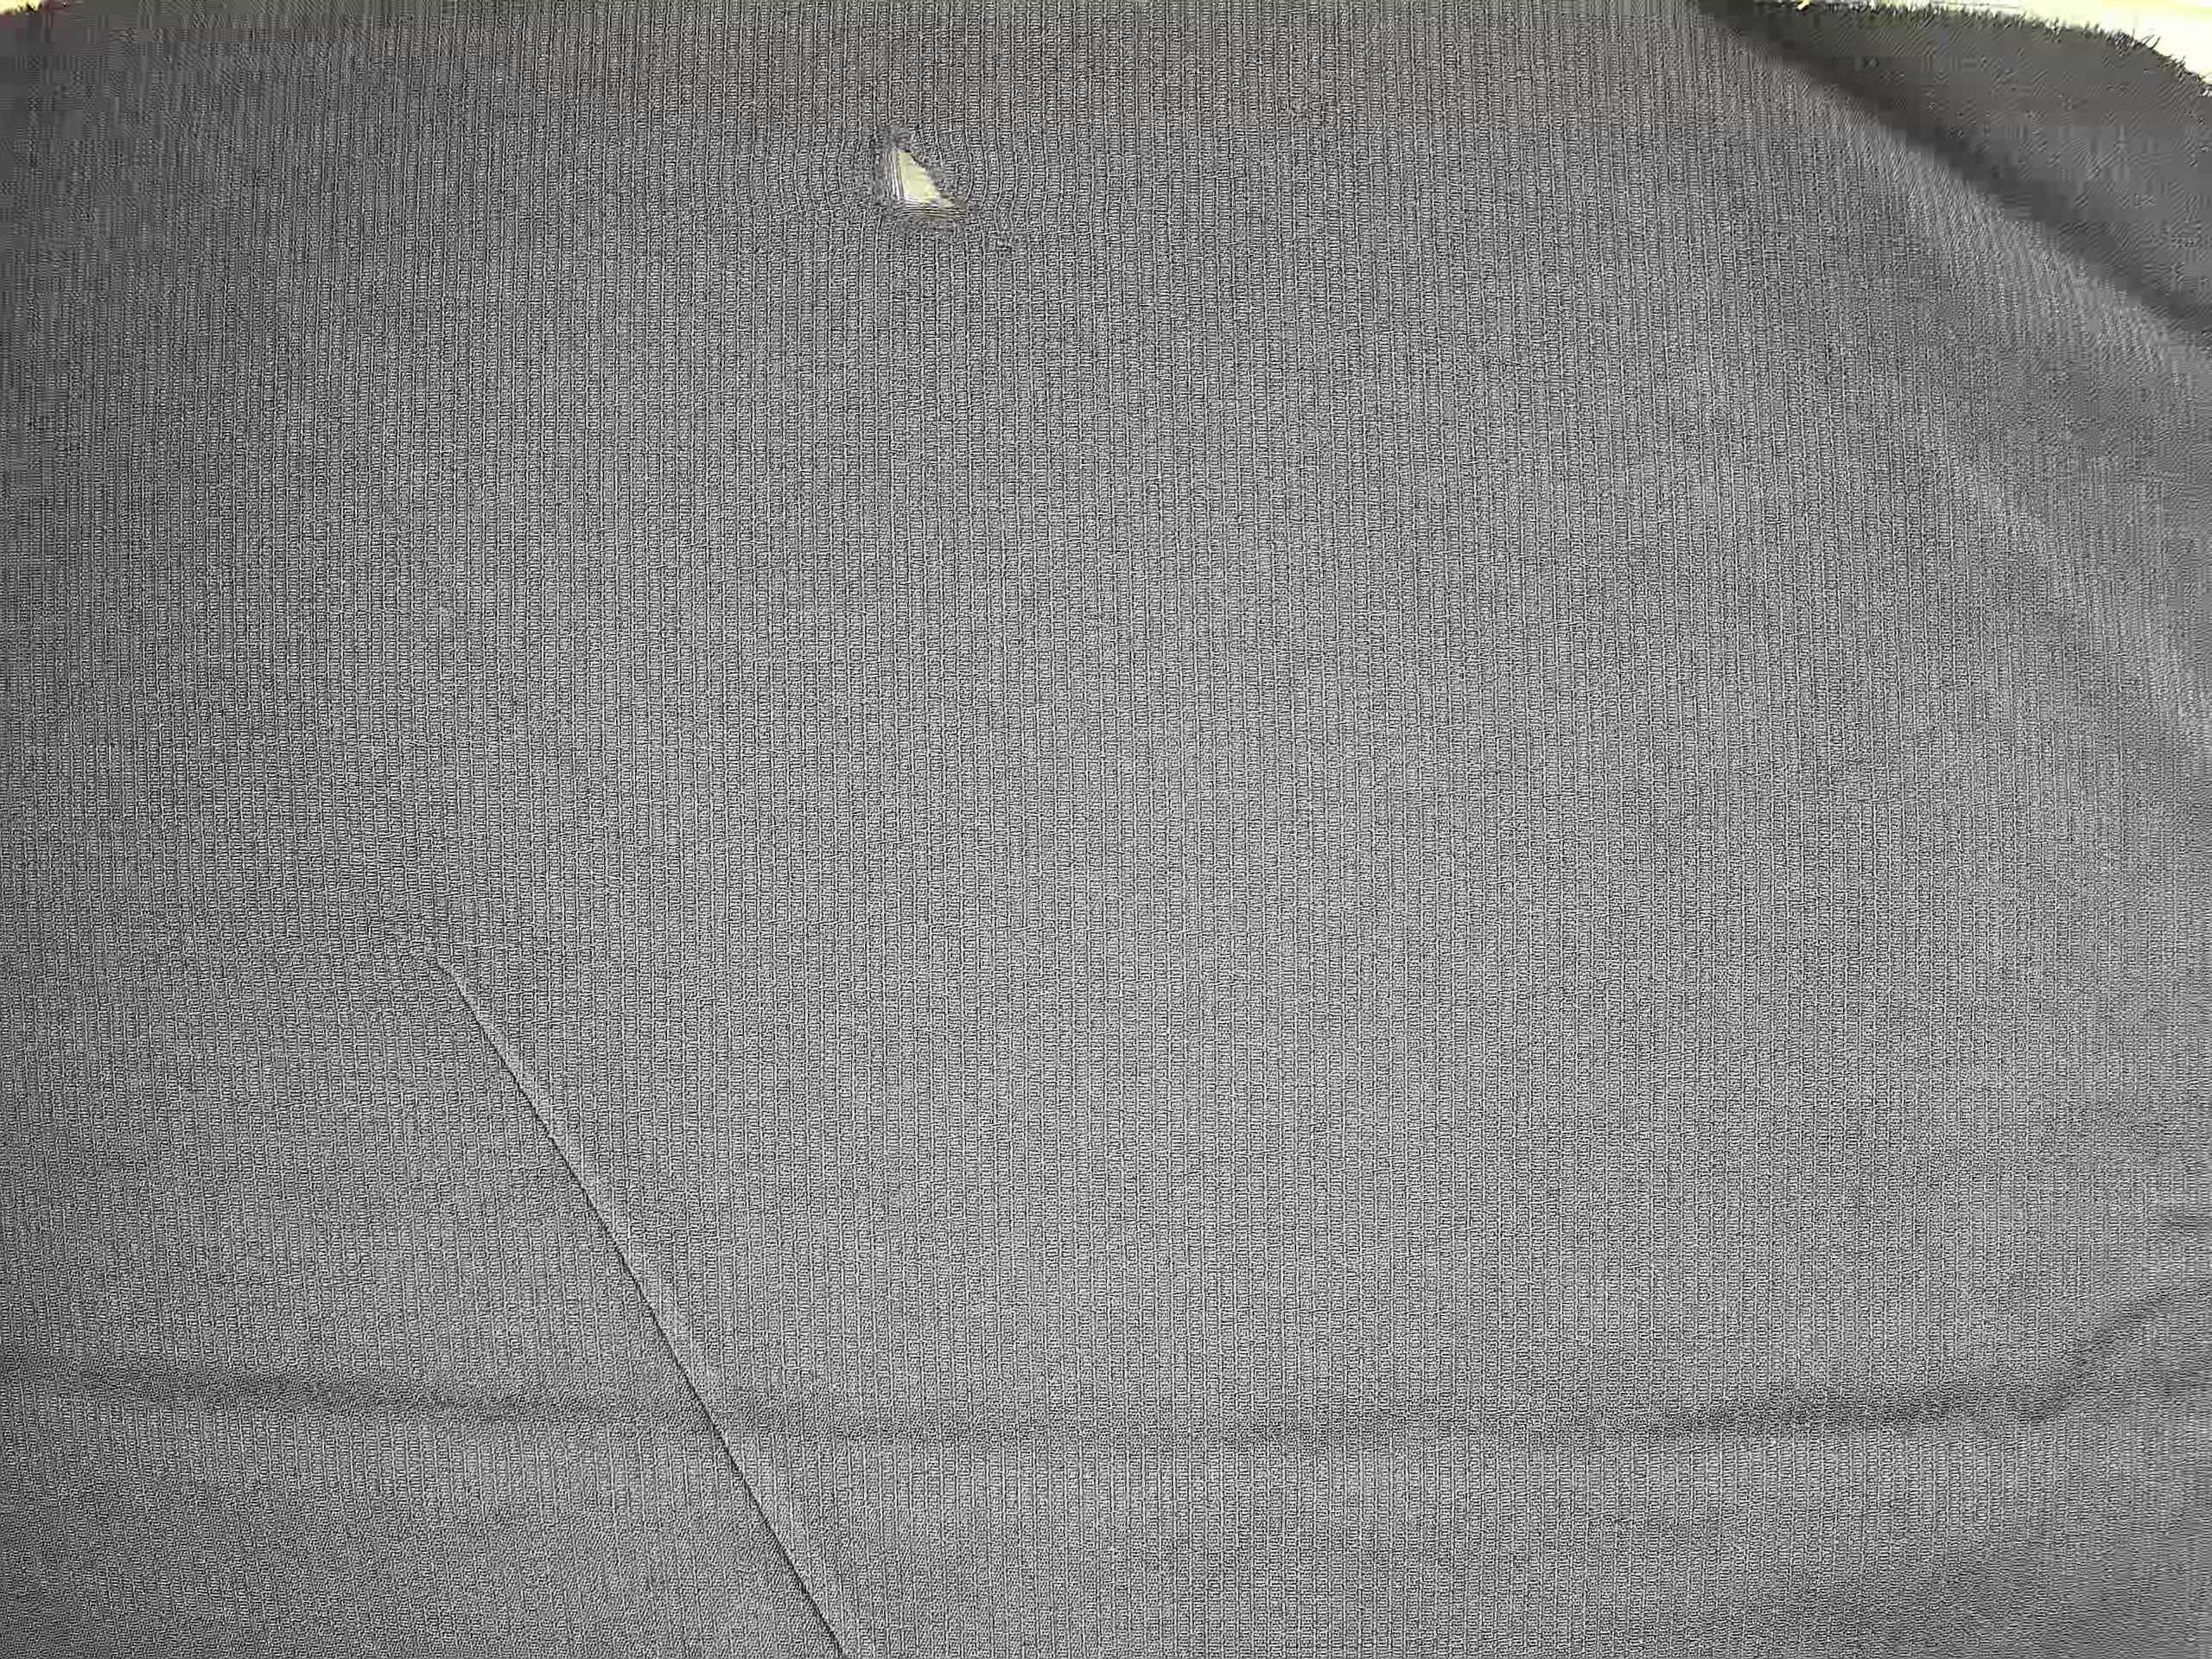rubbing-hole: (846, 101, 989, 239)
